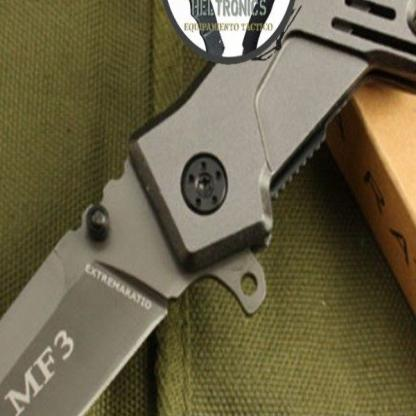knife: (0, 163, 175, 415)
